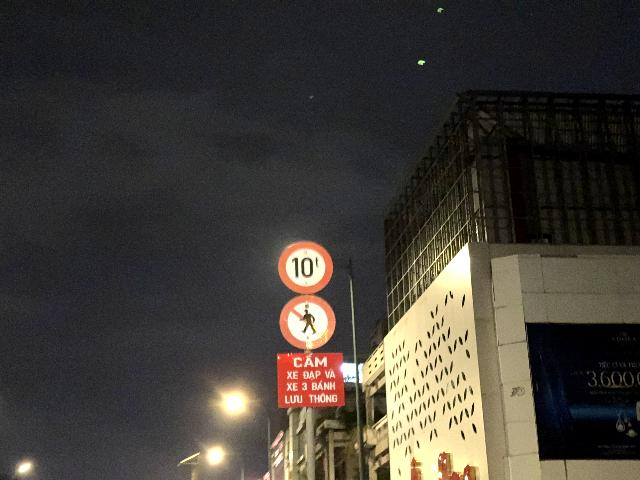cam-nguoi-di-bo: (279, 294, 336, 349)
han-che-trong-luong-xe: (278, 242, 333, 295)
